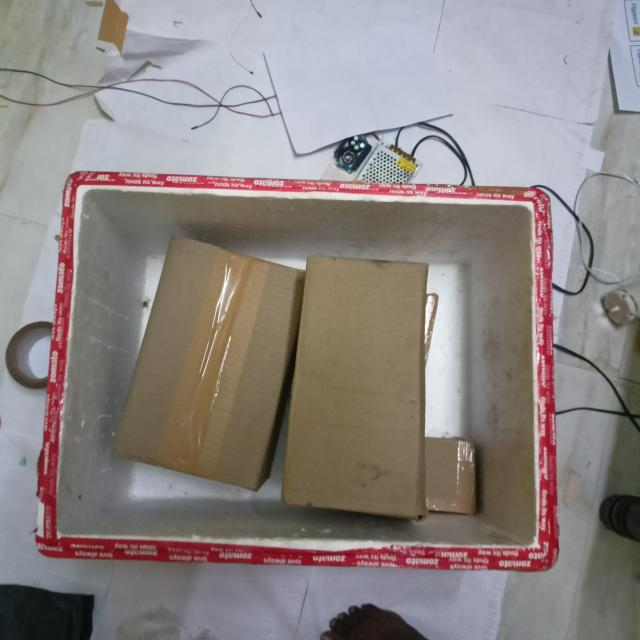box: (103, 238, 302, 497), (277, 259, 430, 520)
